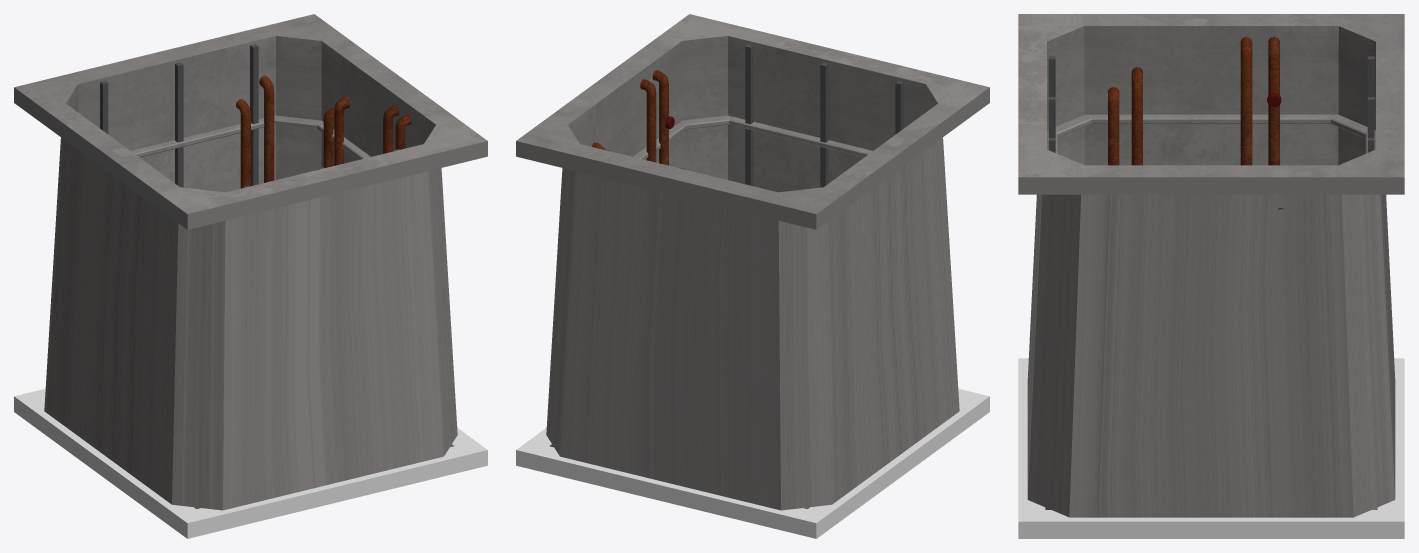
File: shaft_elevator.fbx
The picture shows the model from 3 angles, left to right: view 1: azimuth 30°, elevation 25°; view 2: azimuth 150°, elevation 25°; view 3: azimuth 270°, elevation 25°; orthographic projection. The views are drawn at different scales.
Visible parts, largest first — view 1: Plane.022, Plane.054, Cylinder.012, Cube.012; view 2: Plane.022, Plane.054, Cube.012, Cylinder.012; view 3: Plane.022, Plane.054, Cylinder.012, Cube.012.
Boxes of the visible parts, box(x1,y1,x2,y2) form: Plane.022: box(14, 14, 487, 510); Plane.054: box(14, 388, 487, 538); Cylinder.012: box(236, 75, 411, 188); Cube.012: box(100, 44, 399, 187); Plane.022: box(516, 14, 989, 510); Plane.054: box(516, 388, 989, 538); Cube.012: box(604, 44, 903, 187); Cylinder.012: box(592, 70, 668, 165); Plane.022: box(1018, 14, 1404, 517); Plane.054: box(1018, 358, 1404, 538); Cylinder.012: box(1108, 37, 1283, 209); Cube.012: box(1048, 56, 1374, 152).
Size of the model in its own units: 400 by 417 by 400.
